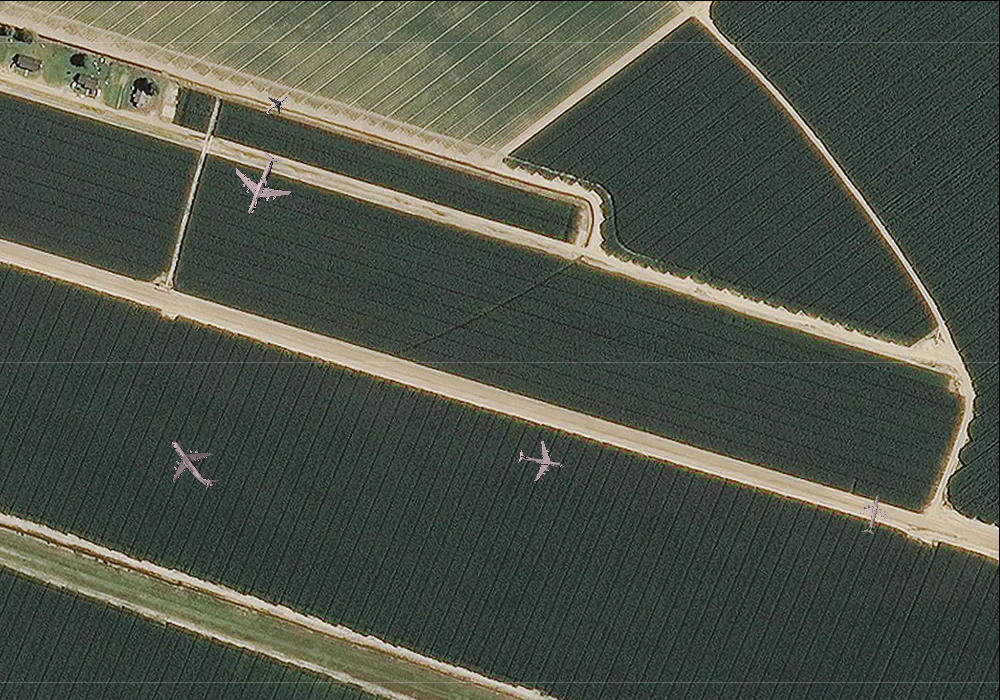plane: (151, 422, 232, 505), (221, 142, 301, 225), (514, 435, 567, 486), (850, 490, 896, 538), (256, 87, 294, 123)
